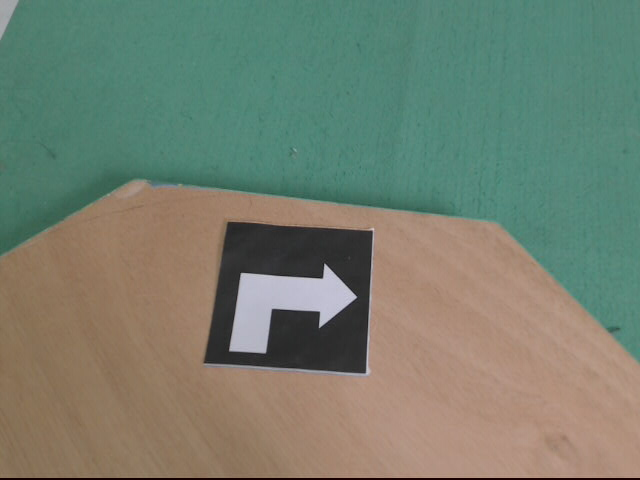right: (202, 221, 378, 376)
